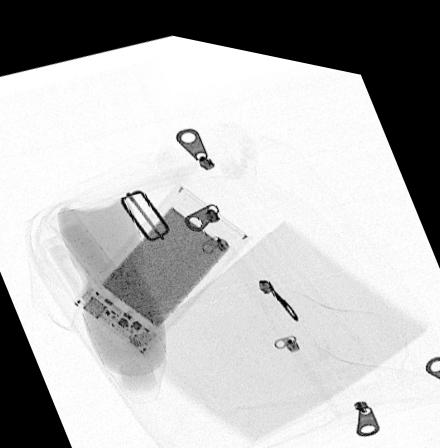Powerbank: (73, 176, 252, 352)
